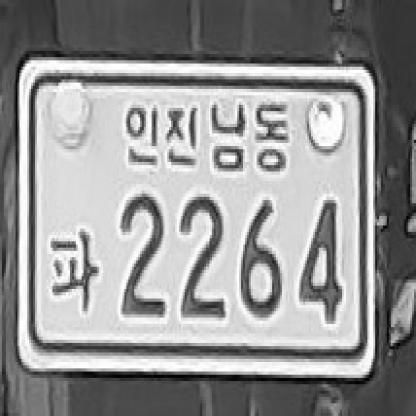bnum: (16, 48, 384, 383)
